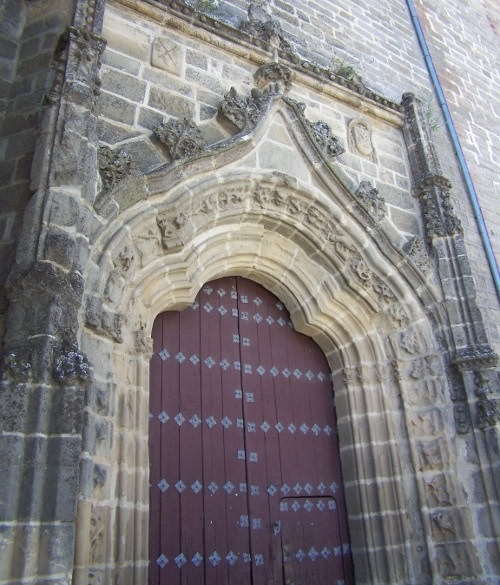arco-trilobulado: (127, 257, 363, 381)
